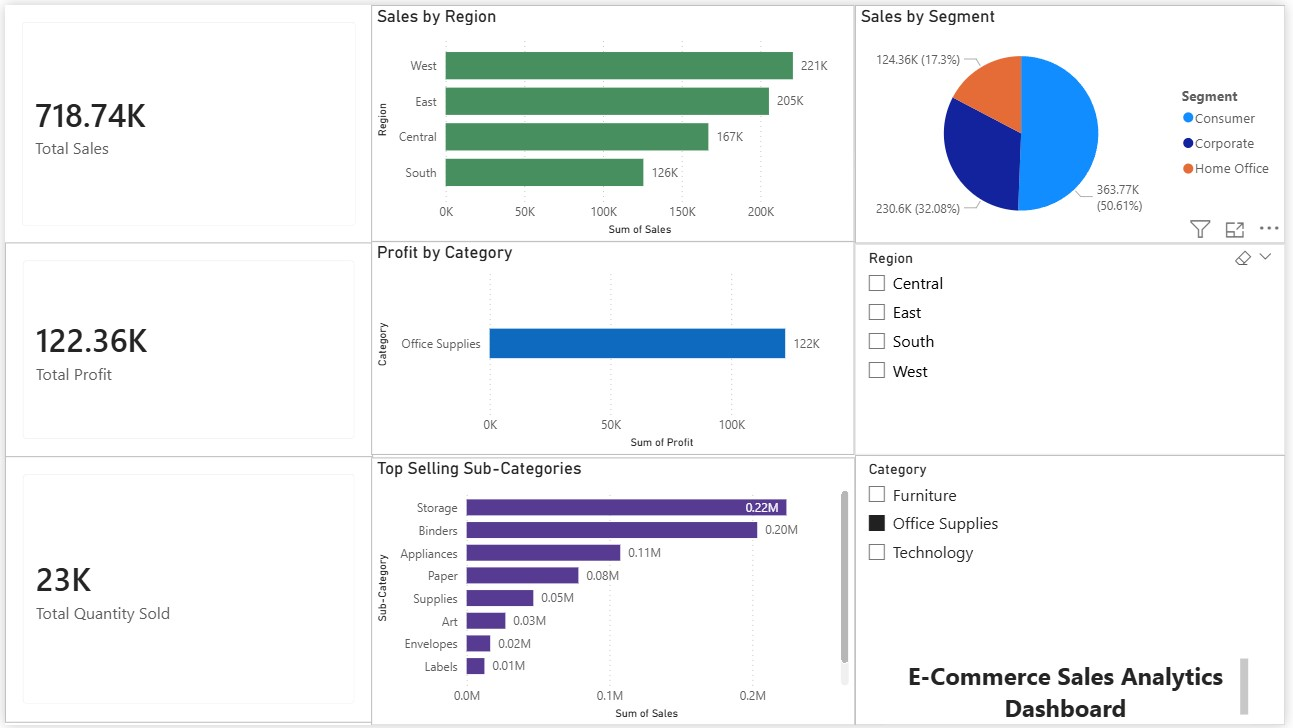

This screenshot's page, from the dashboard's own definition file:
{"tool":"powerbi","page":{"name":"Page 1","canvas":[1280,720],"ordinal":0},"visuals":[{"type":"cardVisual","fields":{"Data":["Sum(cleaned_superstore.Sales)"]},"box":[0,0,368.3,238.3],"z":0},{"type":"cardVisual","fields":{"Data":["Sum(cleaned_superstore.Profit)"]},"box":[0,237.5,368.3,215],"z":1000},{"type":"cardVisual","fields":{"Data":["Sum(cleaned_superstore.Quantity)"]},"box":[0,451.7,368.3,266.7],"z":2000},{"type":"clusteredBarChart","title":"Sales by Region","fields":{"Category":["cleaned_superstore.Region"],"Y":["Sum(cleaned_superstore.Sales)"]},"box":[366.7,0,483.3,236.7],"z":3000},{"type":"clusteredBarChart","title":"Profit by Category","fields":{"Category":["cleaned_superstore.Category"],"Y":["Sum(cleaned_superstore.Profit)"]},"box":[366.7,236.7,483.3,213.3],"z":4000},{"type":"clusteredBarChart","title":"Top Selling Sub-Categories","fields":{"Category":["cleaned_superstore.Sub-Category"],"Y":["Sum(cleaned_superstore.Sales)"]},"box":[366,452,484,268],"z":5000},{"type":"pieChart","title":"Sales by Segment","fields":{"Category":["cleaned_superstore.Segment"],"Y":["Sum(cleaned_superstore.Sales)"]},"box":[850,0,430,238.3],"z":6000},{"type":"slicer","fields":{"Values":["cleaned_superstore.Region"]},"box":[850,238.3,430,211.7],"z":7000},{"type":"slicer","fields":{"Values":["cleaned_superstore.Category"]},"box":[850,450,430,270],"z":8000},{"type":"textbox","box":[880,648.3,368.3,70],"z":8001}]}

Visuals, with their boxes in screenshot pixels (x1, y1, x2, y2), scaled from the page's 1280x720 canvas onto the 1293x728 screenshot:
cardVisual - Sum(cleaned_superstore.Sales): rect(0, 0, 372, 241)
cardVisual - Sum(cleaned_superstore.Profit): rect(0, 240, 372, 458)
cardVisual - Sum(cleaned_superstore.Quantity): rect(0, 457, 372, 726)
"Sales by Region" clusteredBarChart: rect(370, 0, 859, 239)
"Profit by Category" clusteredBarChart: rect(370, 239, 859, 455)
"Top Selling Sub-Categories" clusteredBarChart: rect(370, 457, 859, 727)
"Sales by Segment" pieChart: rect(859, 0, 1292, 241)
slicer - cleaned_superstore.Region: rect(859, 241, 1292, 455)
slicer - cleaned_superstore.Category: rect(859, 455, 1292, 727)
textbox: rect(889, 656, 1261, 726)
